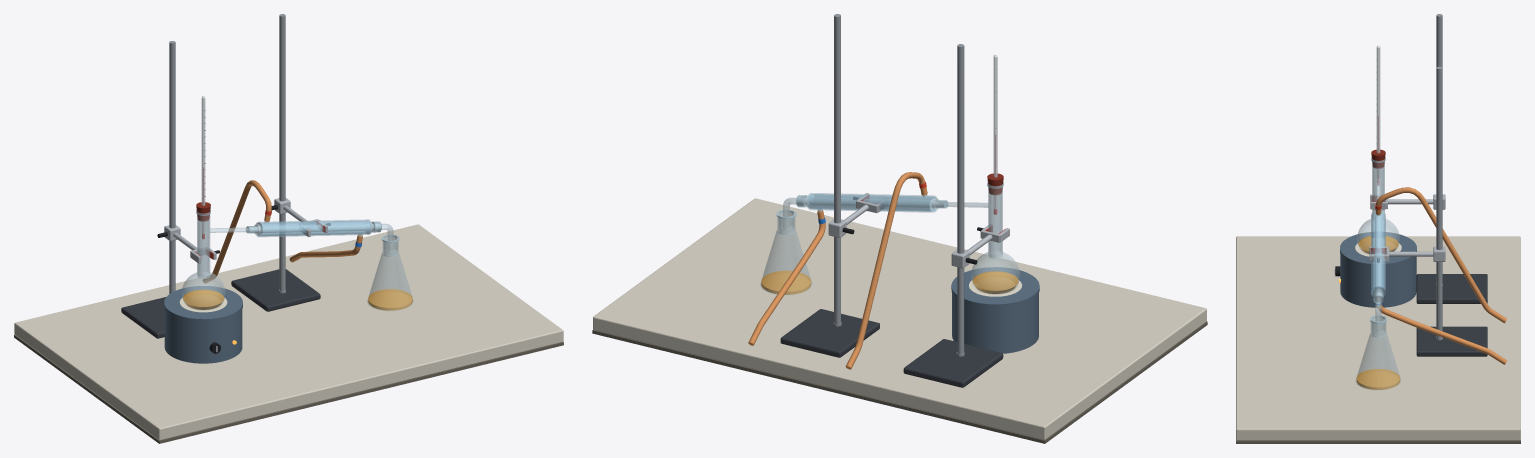
The model's file is distill_setup.glb.
The picture shows the model from 3 angles, left to right: view 1: azimuth 30°, elevation 25°; view 2: azimuth 150°, elevation 25°; view 3: azimuth 270°, elevation 25°; orthographic projection. The views are drawn at different scales.
Visible parts, largest first — view 1: bench, heating_mantle, stand_cond, stand_flask, flask, receiver, condenser, hose_out, liquid, flask_clamp, thermometer, cond_clamp (+1 smaller); view 2: bench, heating_mantle, stand_flask, stand_cond, flask, receiver, condenser, hose_out, hose_in, liquid, flask_clamp, cond_clamp (+1 smaller); view 3: bench, heating_mantle, stand_cond, stand_flask, receiver, flask, condenser, hose_out, hose_in, cond_clamp, thermometer, flask_clamp (+2 smaller).
Part boxes in pixels (box(x1,y1,x2,y2)): bench: box(14, 224, 563, 443); heating_mantle: box(164, 286, 242, 363); stand_cond: box(231, 14, 320, 311); stand_flask: box(121, 41, 175, 338); flask: box(182, 210, 256, 309); receiver: box(367, 234, 413, 310); condenser: box(246, 219, 380, 237); hose_out: box(202, 180, 271, 283); liquid: box(183, 289, 223, 309); flask_clamp: box(157, 225, 219, 263); thermometer: box(201, 96, 205, 239); cond_clamp: box(271, 198, 330, 237); bench: box(592, 198, 1207, 443); heating_mantle: box(951, 267, 1039, 353); stand_flask: box(903, 44, 1003, 387); stand_cond: box(780, 14, 879, 357); flask: box(935, 182, 1019, 294); receiver: box(760, 209, 812, 295); condenser: box(797, 192, 947, 212); hose_out: box(845, 172, 927, 369); hose_in: box(748, 210, 825, 345); liquid: box(972, 271, 1018, 293); flask_clamp: box(951, 224, 1009, 268); cond_clamp: box(828, 193, 887, 237); bench: box(1236, 236, 1520, 443); heating_mantle: box(1334, 232, 1416, 307); stand_cond: box(1416, 66, 1487, 356); stand_flask: box(1416, 14, 1487, 303); receiver: box(1355, 315, 1401, 390); flask: box(1357, 157, 1399, 254); condenser: box(1371, 207, 1385, 302); hose_out: box(1375, 187, 1506, 323); hose_in: box(1375, 303, 1506, 364); cond_clamp: box(1369, 246, 1445, 262); thermometer: box(1376, 45, 1380, 185); flask_clamp: box(1370, 194, 1445, 209).
Size of the model in its own units: 900 by 632 by 560.
